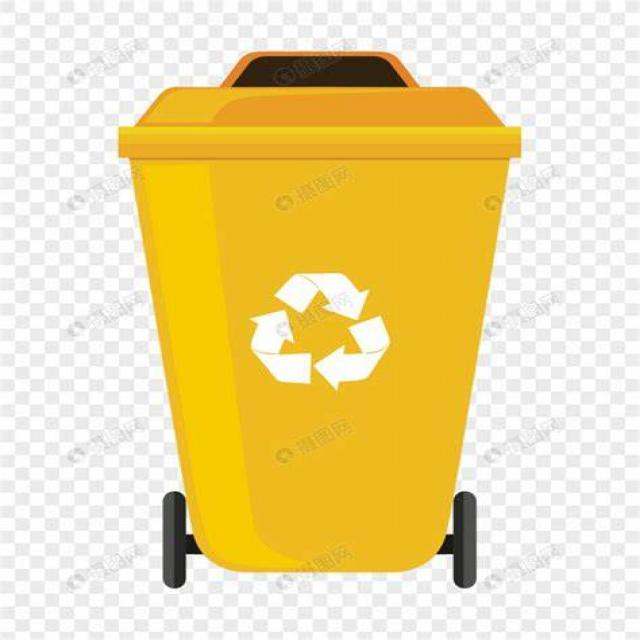Dustbin: (102, 22, 539, 602)
